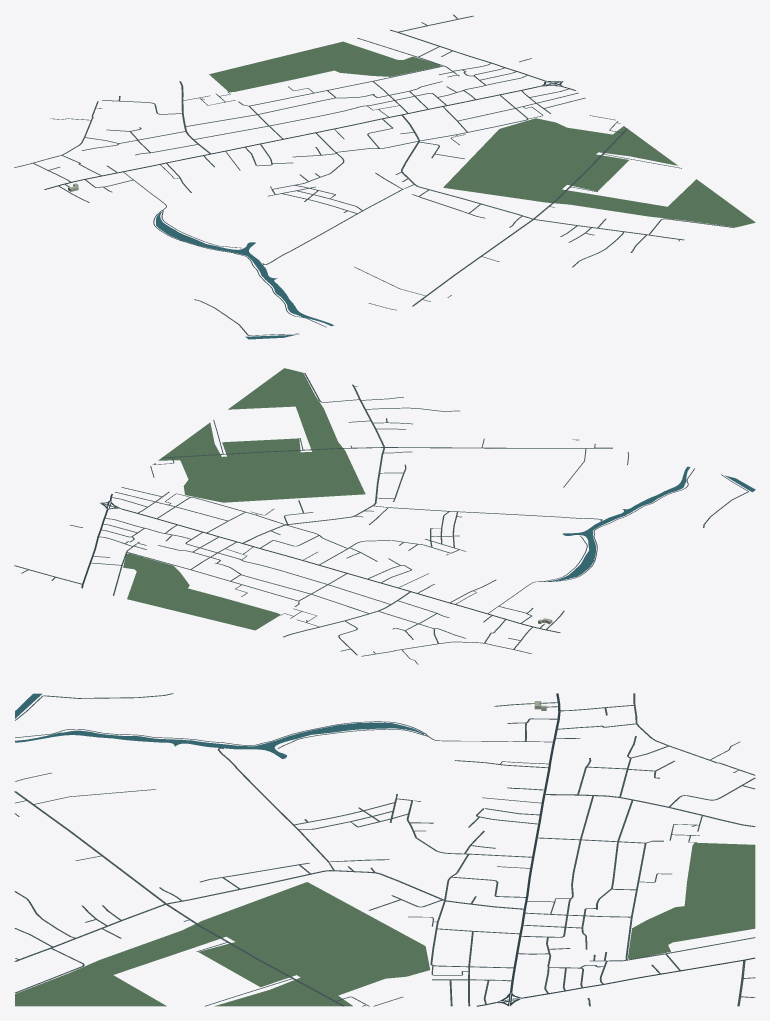
The picture shows the model from 3 angles, top to bottom: view 1: azimuth 30°, elevation 25°; view 2: azimuth 150°, elevation 25°; view 3: azimuth 270°, elevation 25°; orthographic projection. The views are drawn at different scales.
Visible parts, largest first — view 1: green, street, water, major; view 2: green, street, water, major; view 3: green, street, water, major.
Boxes of the visible parts, x1,y1,x2,y2 form: green: [209, 41, 755, 227]; street: [14, 14, 734, 335]; water: [155, 212, 333, 339]; major: [44, 29, 575, 189]; green: [123, 368, 365, 630]; street: [14, 373, 748, 664]; water: [547, 466, 755, 581]; major: [81, 494, 560, 632]; green: [15, 843, 755, 1006]; street: [14, 693, 755, 1006]; water: [15, 693, 424, 758]; major: [476, 693, 755, 1006].
Size of the model in its own units: 2005 by 10.7 by 2005.
